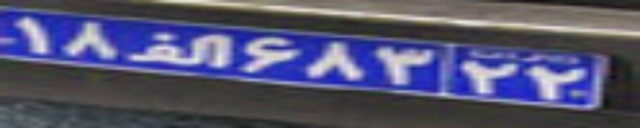1: (14, 15, 50, 57)
2: (526, 64, 590, 101), (460, 59, 520, 96)
3: (373, 44, 435, 86)
6: (239, 36, 300, 74)
8: (305, 40, 364, 81), (61, 19, 115, 61)
alef: (127, 29, 233, 69)
